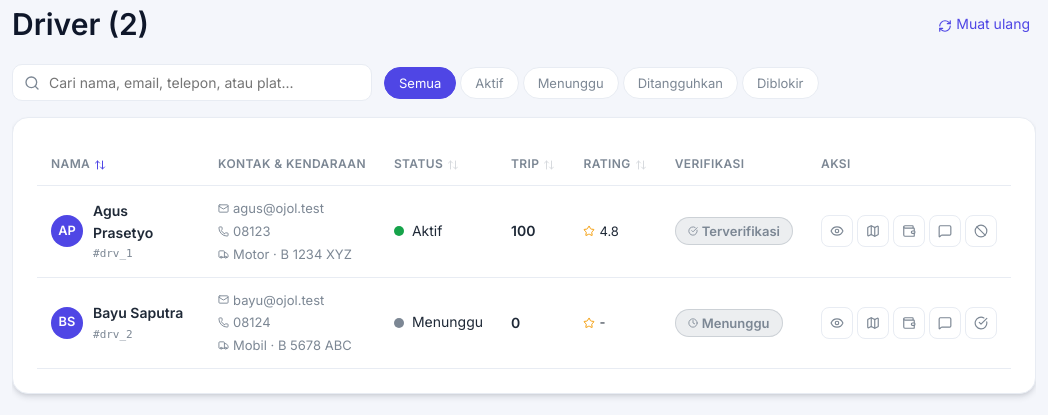
Test: Drivers › filters drivers by status
Check: the text "Agus Prasetyo" is shown, box [93,202,153,241]
Step 1. Click the button "Menunggu" → [571, 82], box [523,66,619,98]
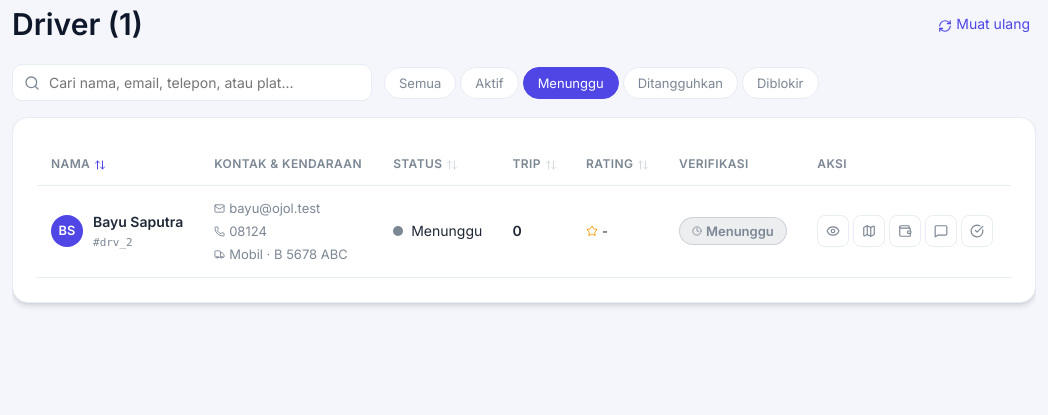
Check: the text "Bayu Saputra" is shown, box [93,211,183,233]
Check: the text "Agus Prasetyo" is gone
